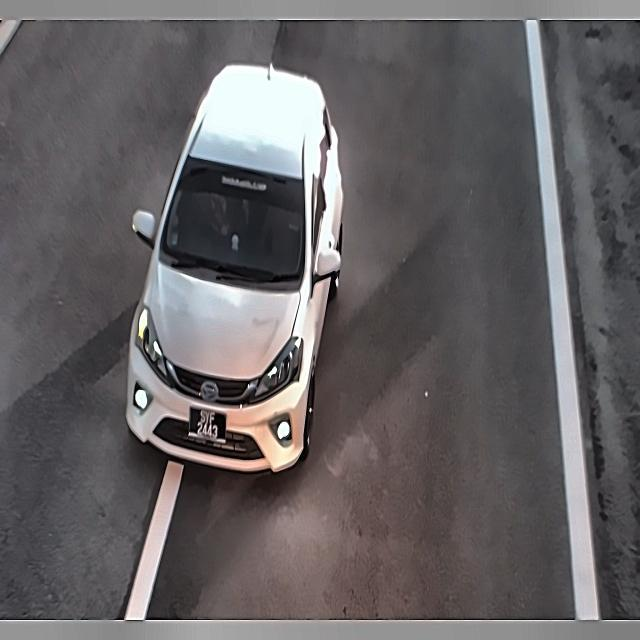car: (186, 394, 229, 455)
